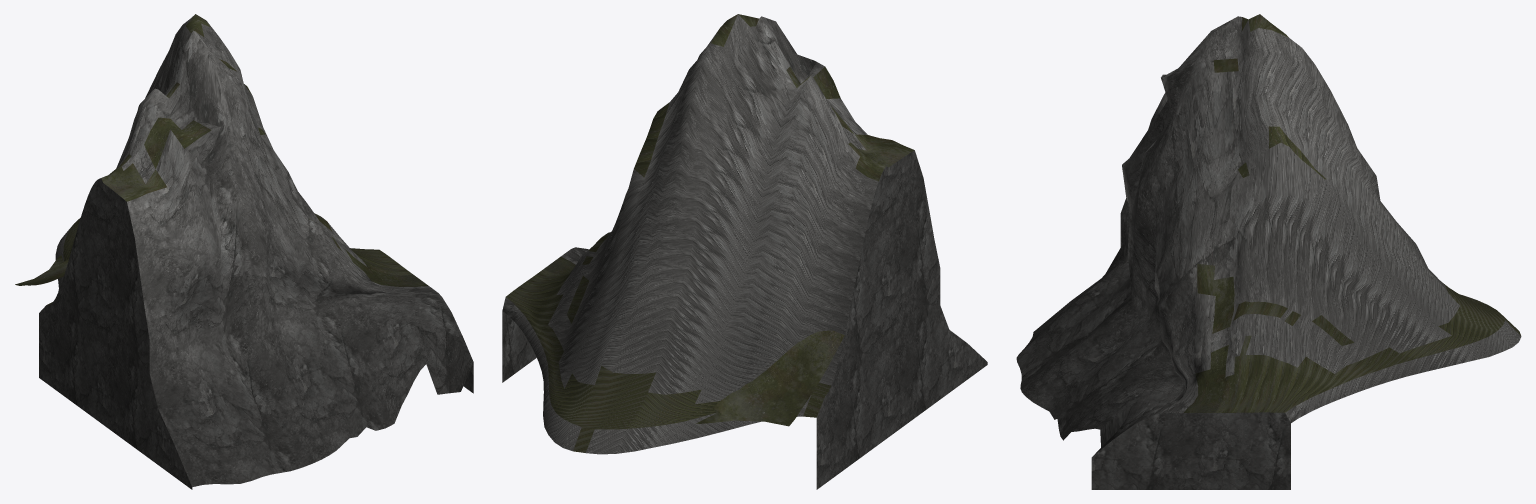
The model's file is seacliff_endcap_right_h3_a_v5_summer.glb.
3 views of the same model, side by side, from view 1: azimuth 30°, elevation 25°; view 2: azimuth 150°, elevation 25°; view 3: azimuth 270°, elevation 25° (orthographic). The views are drawn at different scales.
Visible parts, largest first — view 1: seacliff_endcap_right_h3_a; view 2: seacliff_endcap_right_h3_a; view 3: seacliff_endcap_right_h3_a.
Boxes of the visible parts, box(x1,y1,x2,y2) form: seacliff_endcap_right_h3_a: box(15, 14, 473, 489); seacliff_endcap_right_h3_a: box(502, 14, 987, 489); seacliff_endcap_right_h3_a: box(1016, 14, 1521, 489).
Size of the model in its own units: 6 by 6.81 by 8.25.
2 materials, 2 textured.
